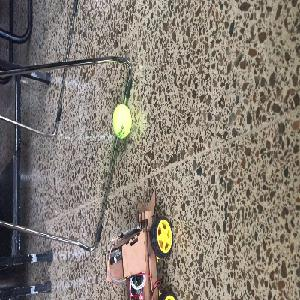Ball: (112, 103, 132, 139)
Robot: (104, 188, 176, 299)
